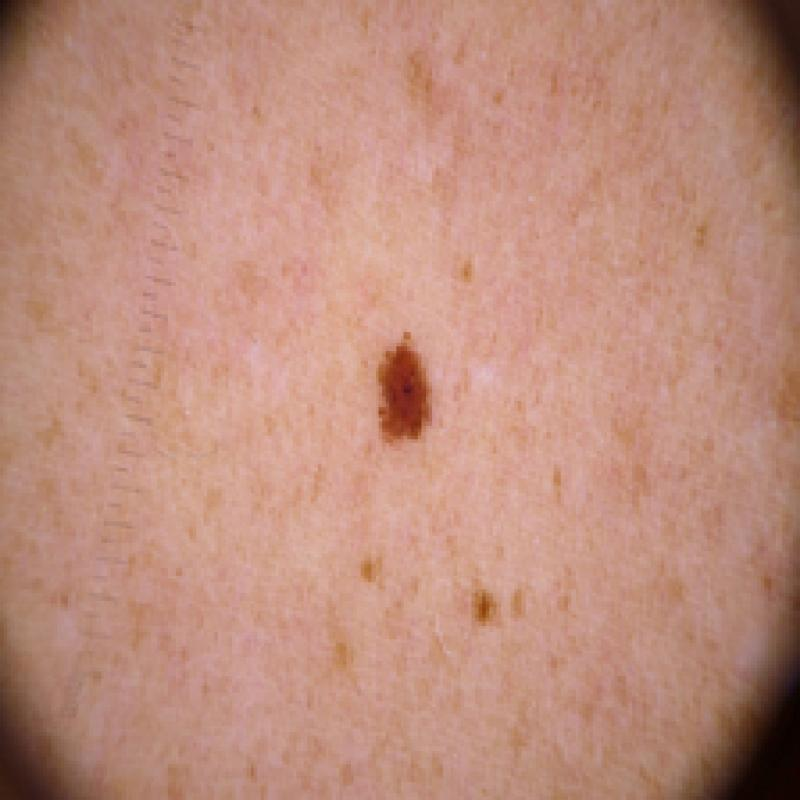benign: (333, 294, 481, 486)
